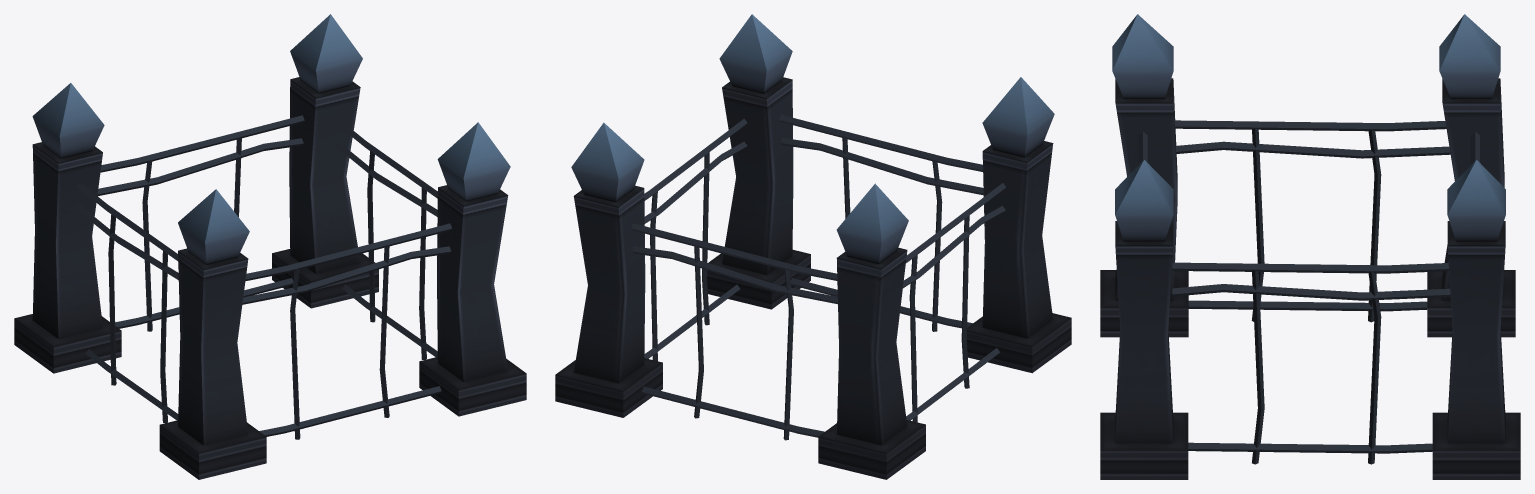
Rendered from GraveYard_Fence_01.FBX.
3 renders of one model, left to right at view 1: azimuth 30°, elevation 25°; view 2: azimuth 150°, elevation 25°; view 3: azimuth 270°, elevation 25°, orthographic. The views are drawn at different scales.
Parts seen in each view (by area): view 1: GraveYard_Fence_01; view 2: GraveYard_Fence_01; view 3: GraveYard_Fence_01.
Part boxes in pixels (left/top/right/bottom): GraveYard_Fence_01: left=14, top=14, right=526, bottom=479; GraveYard_Fence_01: left=555, top=14, right=1071, bottom=479; GraveYard_Fence_01: left=1100, top=14, right=1520, bottom=479.
Size of the model in its own units: 92.97 by 73.72 by 91.79.
